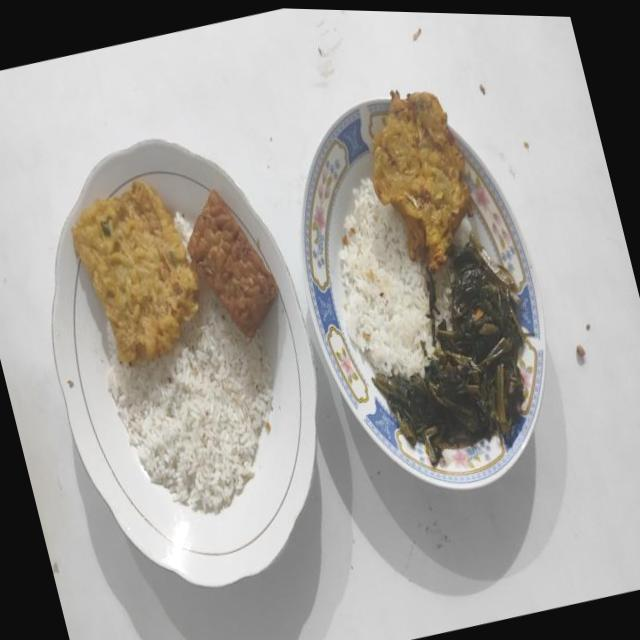nasi_putih: (107, 292, 273, 514), (338, 177, 434, 375)
tempe_goreng: (186, 190, 278, 337)
tumis_kangkung: (372, 235, 526, 466)
